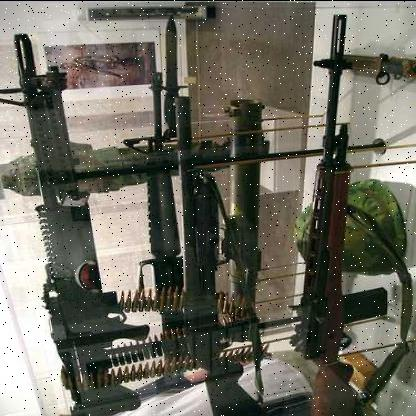rifle: (1, 24, 165, 416), (152, 88, 304, 416), (314, 45, 397, 416)
